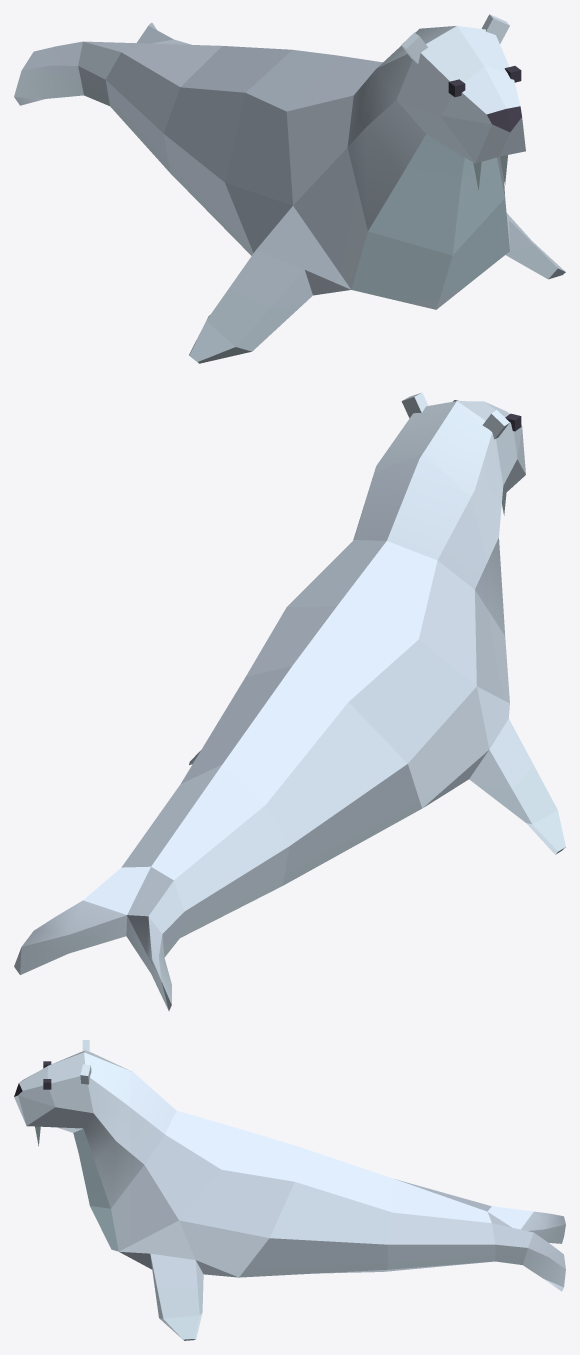
The model's file is SS_Sealion.fbx.
3 views of the same model, one above another, from view 1: azimuth 30°, elevation 25°; view 2: azimuth 150°, elevation 25°; view 3: azimuth 270°, elevation 25° (orthographic). The views are drawn at different scales.
Parts seen in each view (by area): view 1: Sealion; view 2: Sealion; view 3: Sealion.
Part boxes in pixels (x1,y1,x2,y2): Sealion: (14, 14, 565, 363); Sealion: (14, 392, 565, 1010); Sealion: (14, 1040, 565, 1340).
Bounding box in the file's own units: 1.05 × 0.9498 × 2.06.
Materials: 1 (1 with a texture image).
